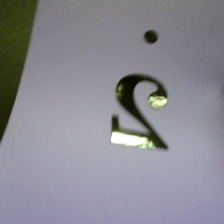violet2: (103, 26, 179, 157)
